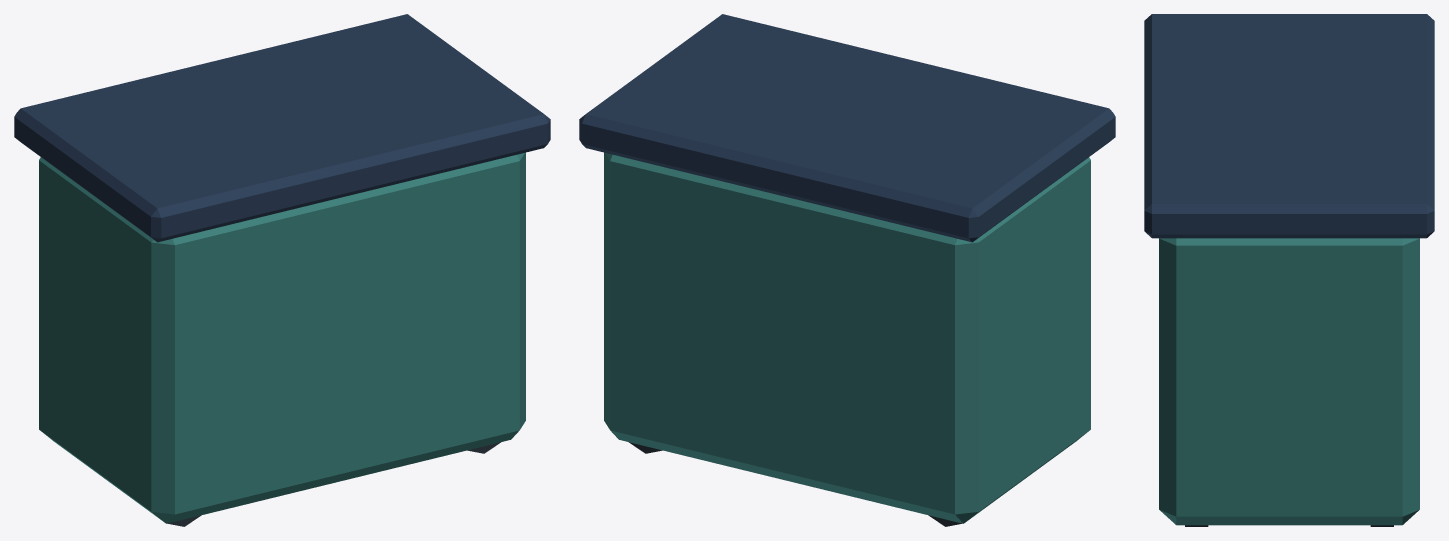
File: Prop_Dumpster.fbx
The picture shows the model from 3 angles, left to right: view 1: azimuth 30°, elevation 25°; view 2: azimuth 150°, elevation 25°; view 3: azimuth 270°, elevation 25°; orthographic projection.
Parts seen in each view (by area): view 1: Bin, Lid.002; view 2: Bin, Lid.002; view 3: Bin, Lid.002.
Boxes of the visible parts, <box> form: Bin: <box>39,152,525,523</box>; Lid.002: <box>14,14,550,242</box>; Bin: <box>604,152,1090,523</box>; Lid.002: <box>579,14,1115,242</box>; Bin: <box>1159,238,1419,525</box>; Lid.002: <box>1144,14,1434,238</box>.
Size of the model in its own units: 1.6 by 1.31 by 1.
